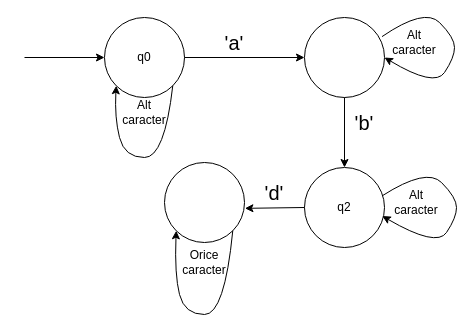
This 474x333 diagram has some shape labels left out. The centre of each missing label's shape, as x and y in pixels:
"q1" belongs at [344,57].
"q3" belongs at [204,202].
